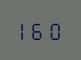one: (18, 20, 31, 40)
six: (33, 20, 46, 40)
zero: (47, 20, 60, 40)
